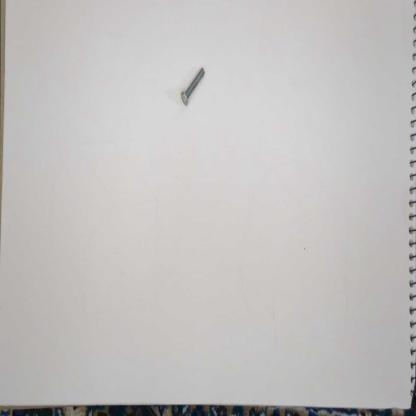Bolts: (179, 65, 209, 109)
